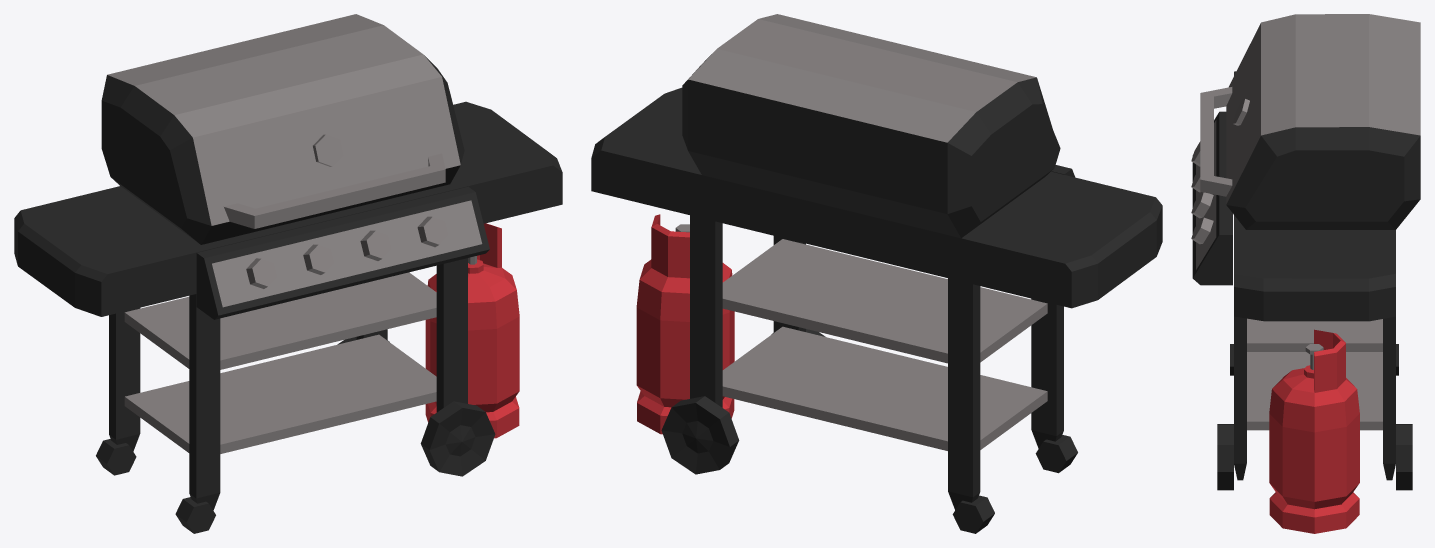
File: props_grill-gas.fbx
The picture shows the model from 3 angles, left to right: view 1: azimuth 30°, elevation 25°; view 2: azimuth 150°, elevation 25°; view 3: azimuth 270°, elevation 25°; orthographic projection. The views are drawn at different scales.
Visible parts, largest first — view 1: grill_gas_base, grill_gas_top; view 2: grill_gas_base, grill_gas_top; view 3: grill_gas_base, grill_gas_top.
Boxes of the visible parts, x1,y1,x2,y2 form: grill_gas_base: [14, 101, 562, 533]; grill_gas_top: [101, 14, 464, 244]; grill_gas_base: [591, 87, 1162, 533]; grill_gas_top: [682, 14, 1060, 238]; grill_gas_base: [1191, 71, 1412, 533]; grill_gas_top: [1200, 14, 1420, 229].
Size of the model in its own units: 200 by 155 by 88.54.
